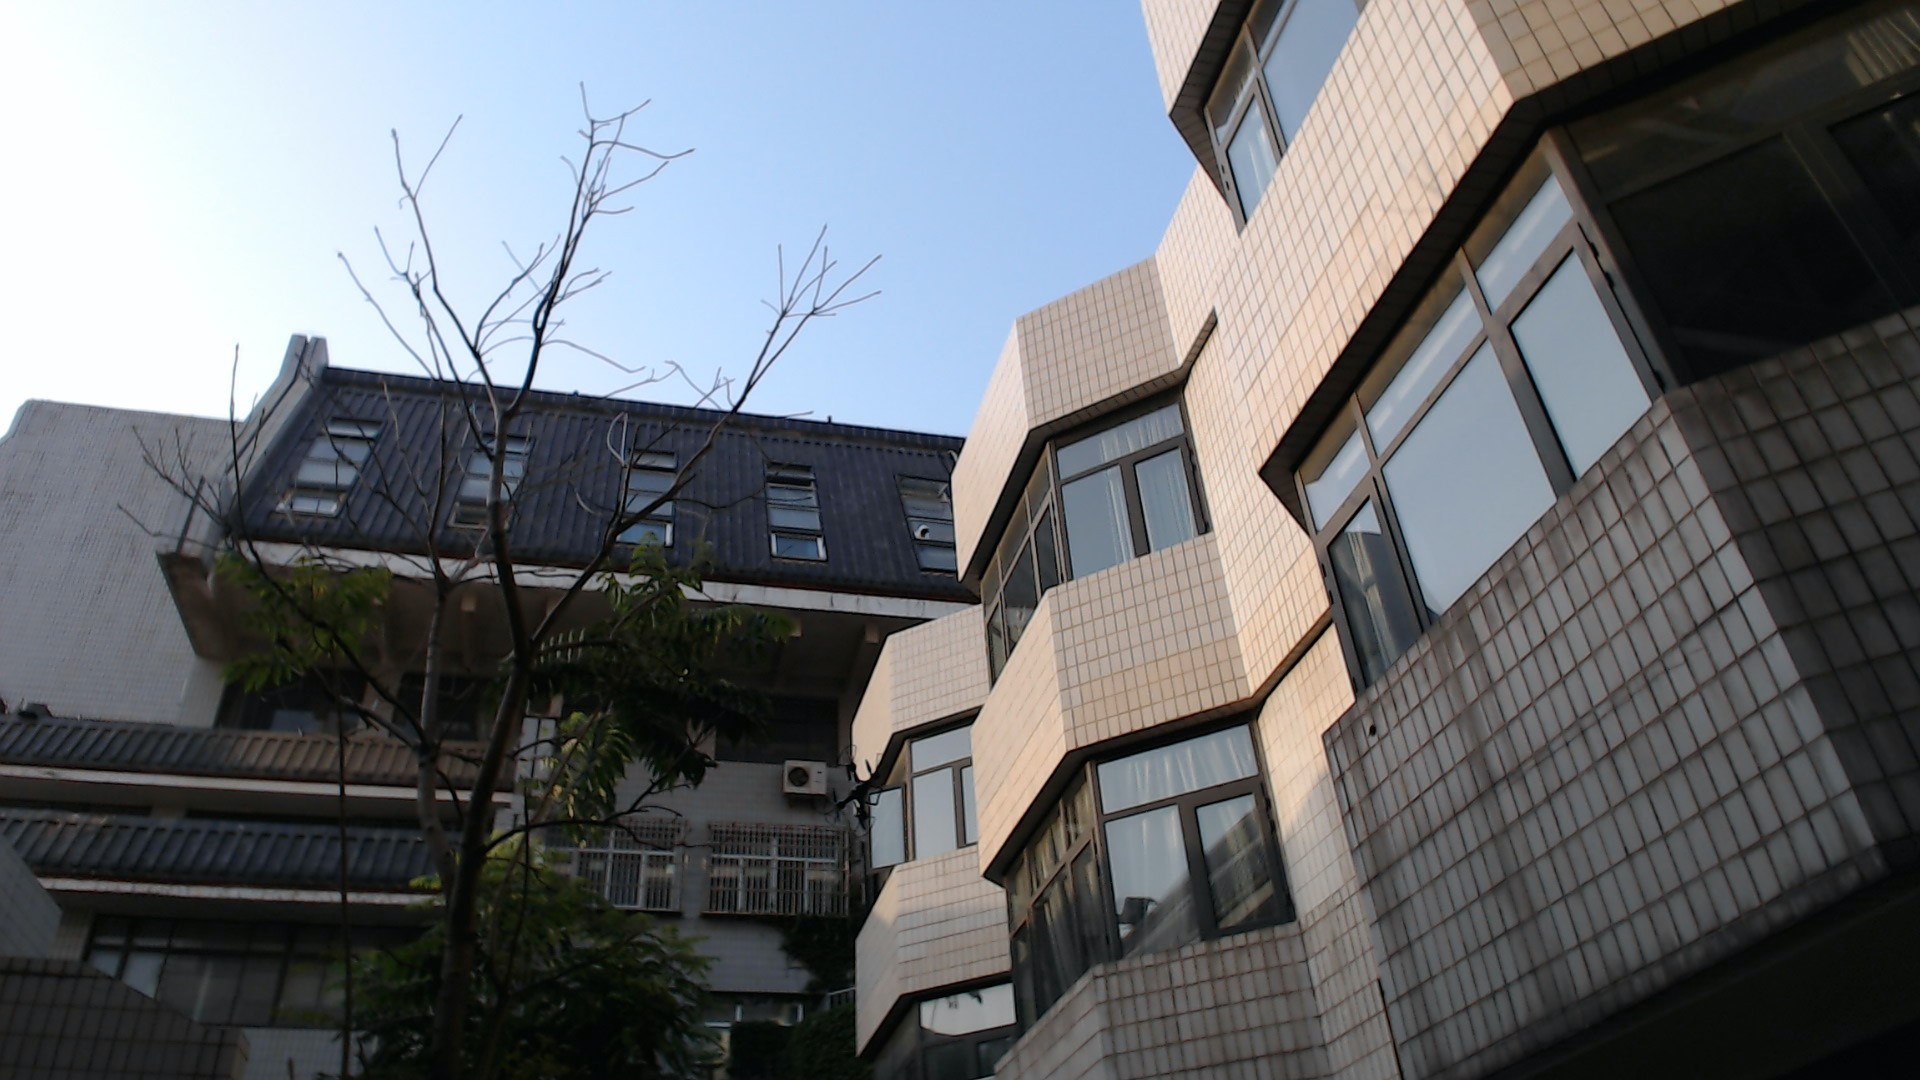drone: (806, 733, 910, 851)
